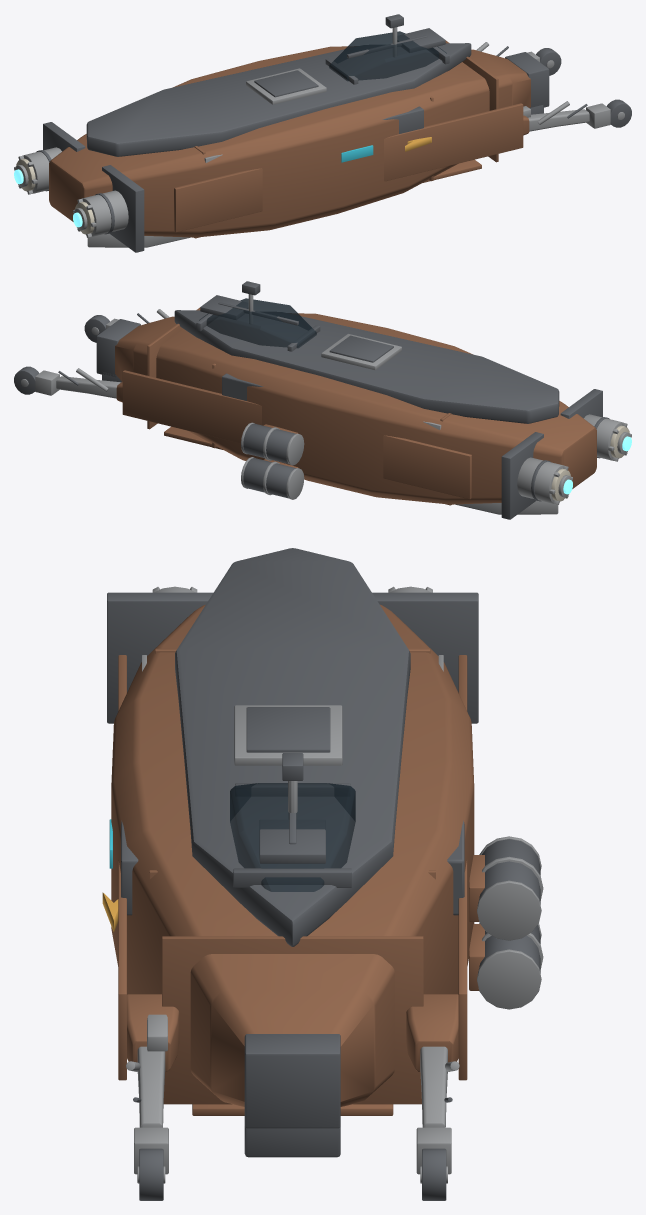
File: pelican_production_v1_lod1.glb
3 views of the same model, one above another, from view 1: azimuth 30°, elevation 25°; view 2: azimuth 150°, elevation 25°; view 3: azimuth 270°, elevation 25° (orthographic). The views are drawn at different scales.
Visible parts, largest first — view 1: LOD1_Hull, LOD1_Armor, LOD1_Mechanical, LOD1_Canopy, LOD1_Ceramic, LOD1_Accent; view 2: LOD1_Hull, LOD1_Armor, LOD1_Mechanical, LOD1_Canopy, LOD1_Ceramic; view 3: LOD1_Armor, LOD1_Hull, LOD1_Mechanical, LOD1_Canopy.
Part boxes in pixels (x1=…): LOD1_Hull: x1=49, y1=40, x2=530, y2=238; LOD1_Armor: x1=36, y1=14, x2=631, y2=252; LOD1_Mechanical: x1=14, y1=27, x2=624, y2=247; LOD1_Canopy: x1=329, y1=31, x2=446, y2=81; LOD1_Ceramic: x1=16, y1=158, x2=94, y2=234; LOD1_Accent: x1=341, y1=145, x2=373, y2=162; LOD1_Hull: x1=115, y1=307, x2=596, y2=505; LOD1_Armor: x1=14, y1=281, x2=609, y2=519; LOD1_Mechanical: x1=21, y1=294, x2=631, y2=514; LOD1_Canopy: x1=199, y1=298, x2=316, y2=348; LOD1_Ceramic: x1=551, y1=425, x2=629, y2=501; LOD1_Armor: x1=107, y1=548, x2=540, y2=1200; LOD1_Hull: x1=111, y1=604, x2=484, y2=1115; LOD1_Mechanical: x1=126, y1=586, x2=543, y2=1183; LOD1_Canopy: x1=230, y1=783, x2=355, y2=891.
Size of what is drawn, in the model's own units: 14.47 by 3.94 by 5.05.
